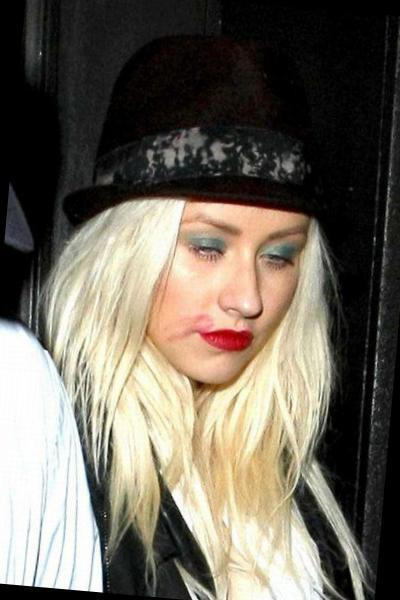Drunk: (153, 204, 291, 369)
